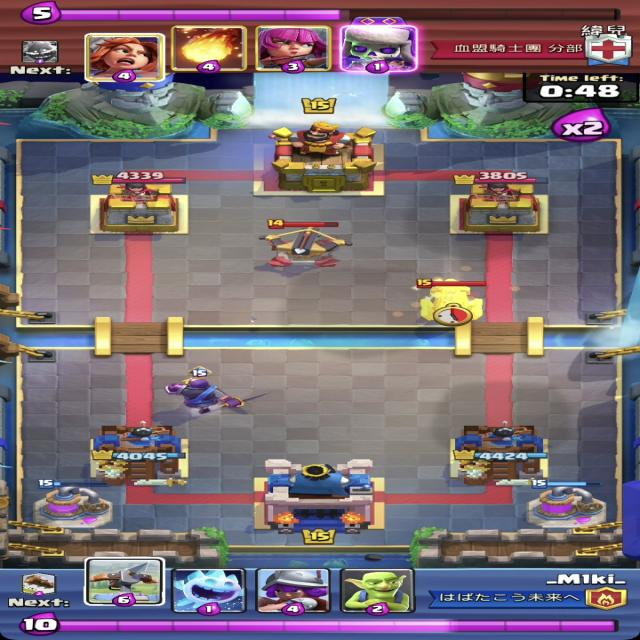Enemy-Tesla: (416, 278, 486, 323)
Enemy-XBow: (259, 220, 353, 268)
Player-ElixirPump: (525, 478, 609, 530), (31, 479, 115, 530)
Player-Knight-Evo: (163, 366, 271, 416)
